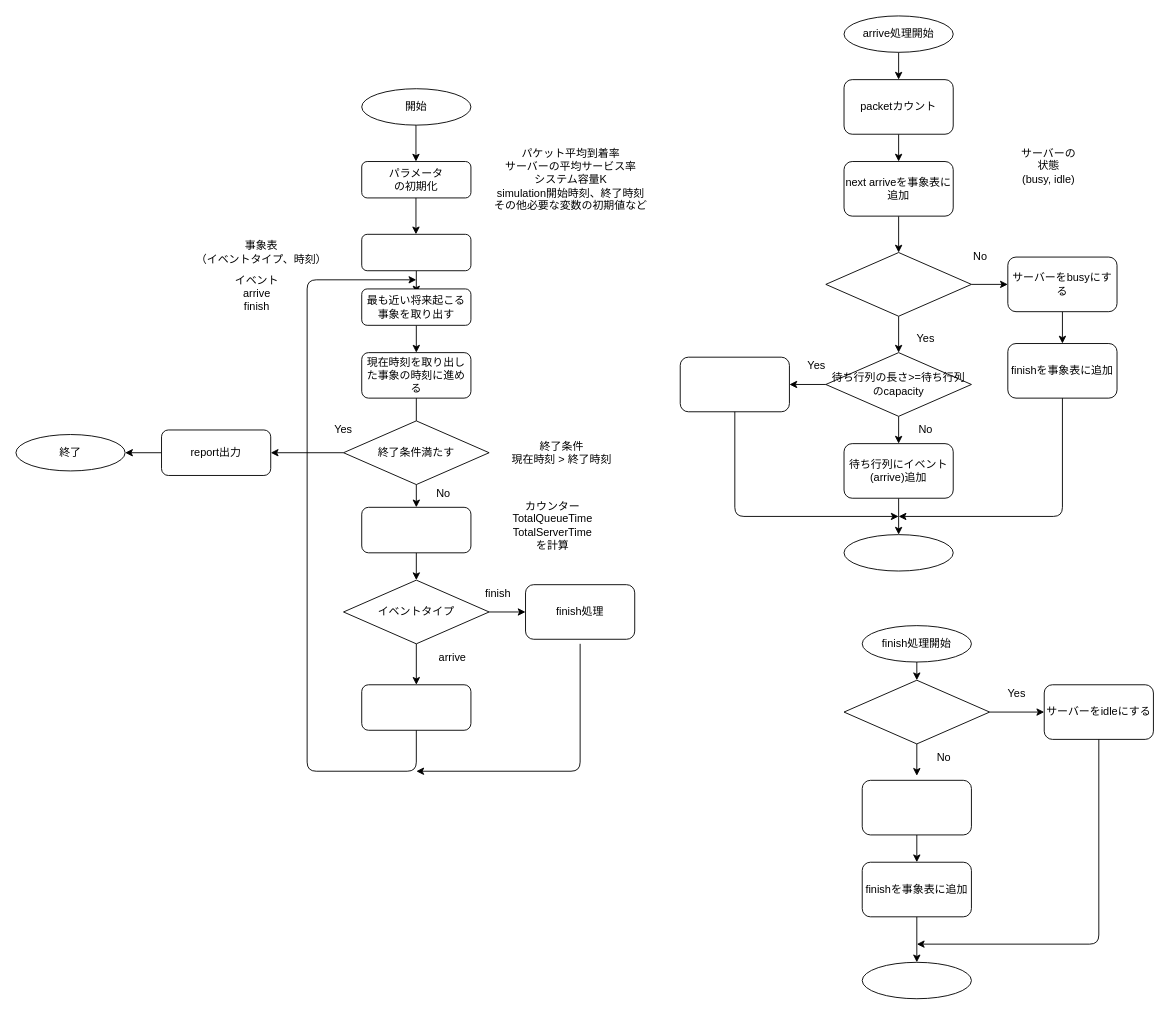
The diagram is 1169 pixels wide and 1015 high, and some of its shapes have lost their labels. The centre of each missing label's shape, as x and y in pixels:
"arrive処理" belongs at [416,707].
"arrive処理終了" belongs at [898,552].
"finish処理終了" belongs at [916,980].
"カウンター処理" belongs at [416,529].
"サーバーがbusy" belongs at [898,284].
"パケットロスの回数をカウント" belongs at [734,384].
"事象表に最初の事象(arrive)を登録" belongs at [416,252].
"待ち行列からイベント(arrive)を取り出す (暗黙的にサーバーをbusyにする)" belongs at [916,807].
"待ち行列が空" belongs at [916,711].
